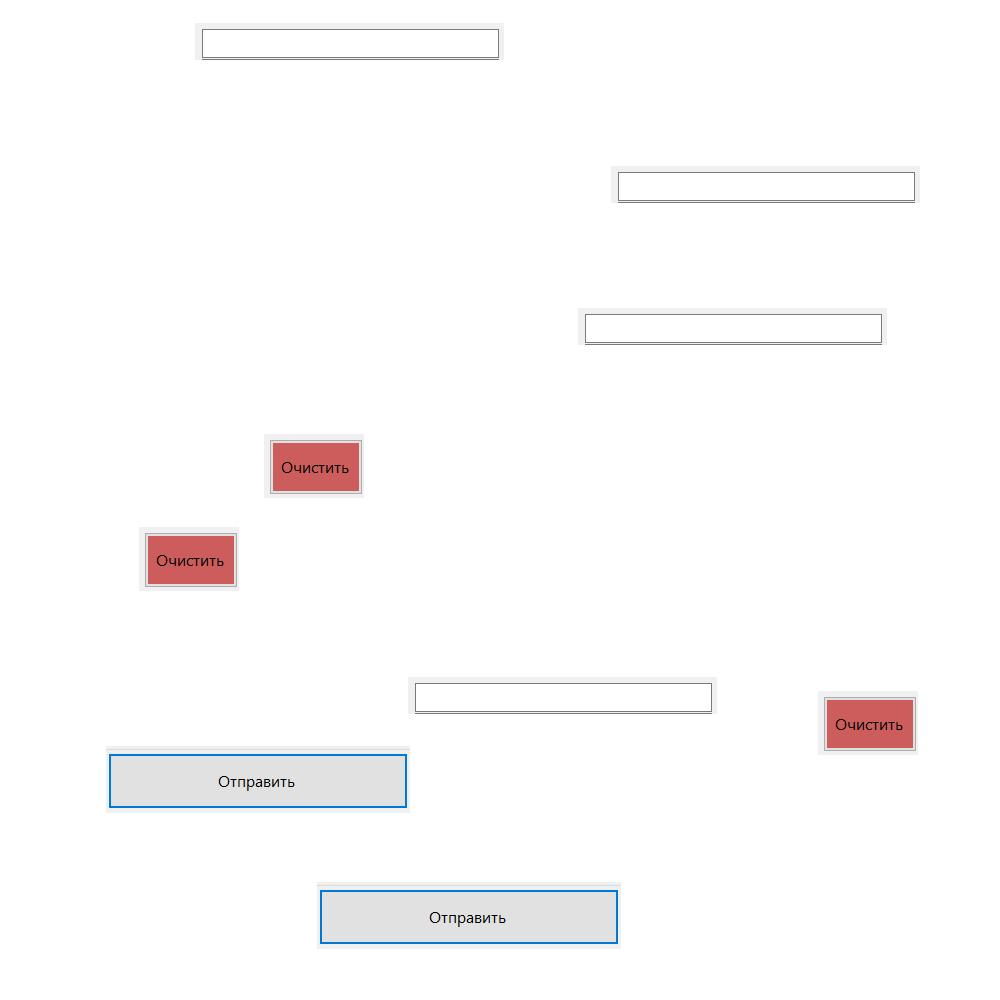Button: (317, 882, 621, 949), (106, 746, 410, 813), (139, 527, 239, 591), (264, 434, 364, 498), (818, 691, 918, 755)
EditText-: (578, 308, 887, 345), (611, 166, 920, 203), (408, 677, 717, 714), (195, 23, 504, 60)
